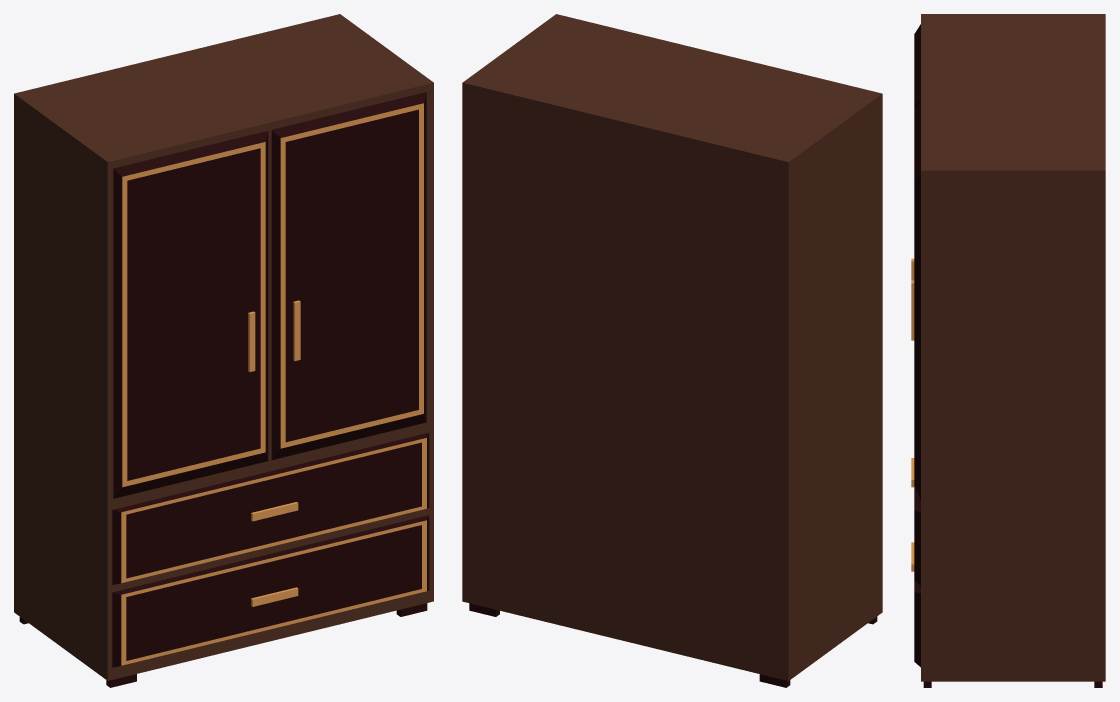
File: Schrank.fbx
3 views of the same model, side by side, from view 1: azimuth 30°, elevation 25°; view 2: azimuth 150°, elevation 25°; view 3: azimuth 270°, elevation 25° (orthographic).
Visible parts, largest first — view 1: Schrank; view 2: Schrank; view 3: Schrank.
Part boxes in pixels (box(x1,y1,x2,y2)): Schrank: box(14, 14, 433, 687); Schrank: box(462, 14, 882, 687); Schrank: box(911, 14, 1105, 687).
Size of the model in its own units: 156 by 241 by 81.55.
